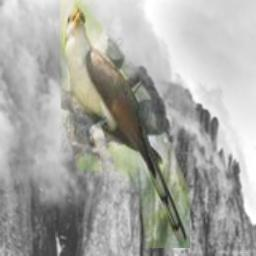Cuckoo: (60, 0, 190, 248)
